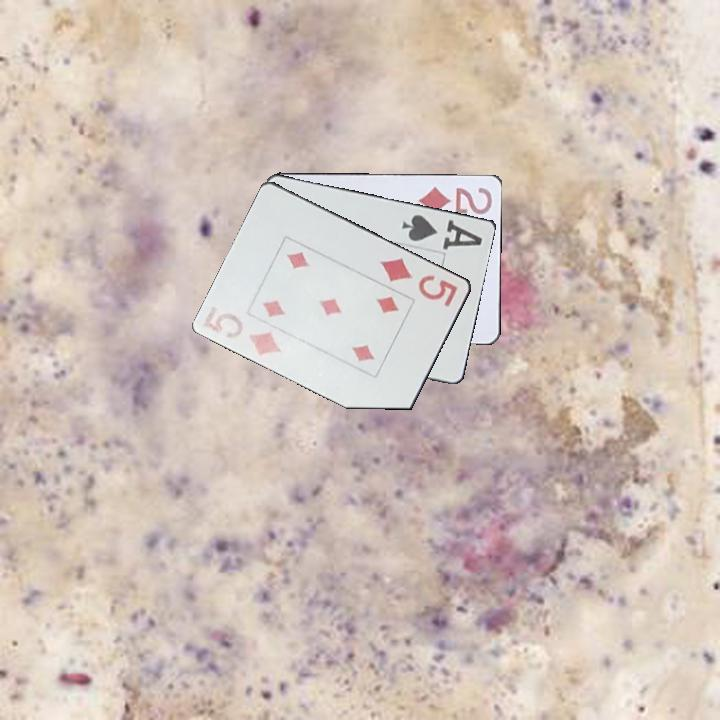2d: (413, 183, 495, 217)
5d: (377, 254, 461, 309), (210, 309, 285, 358)
As: (398, 211, 486, 252)
